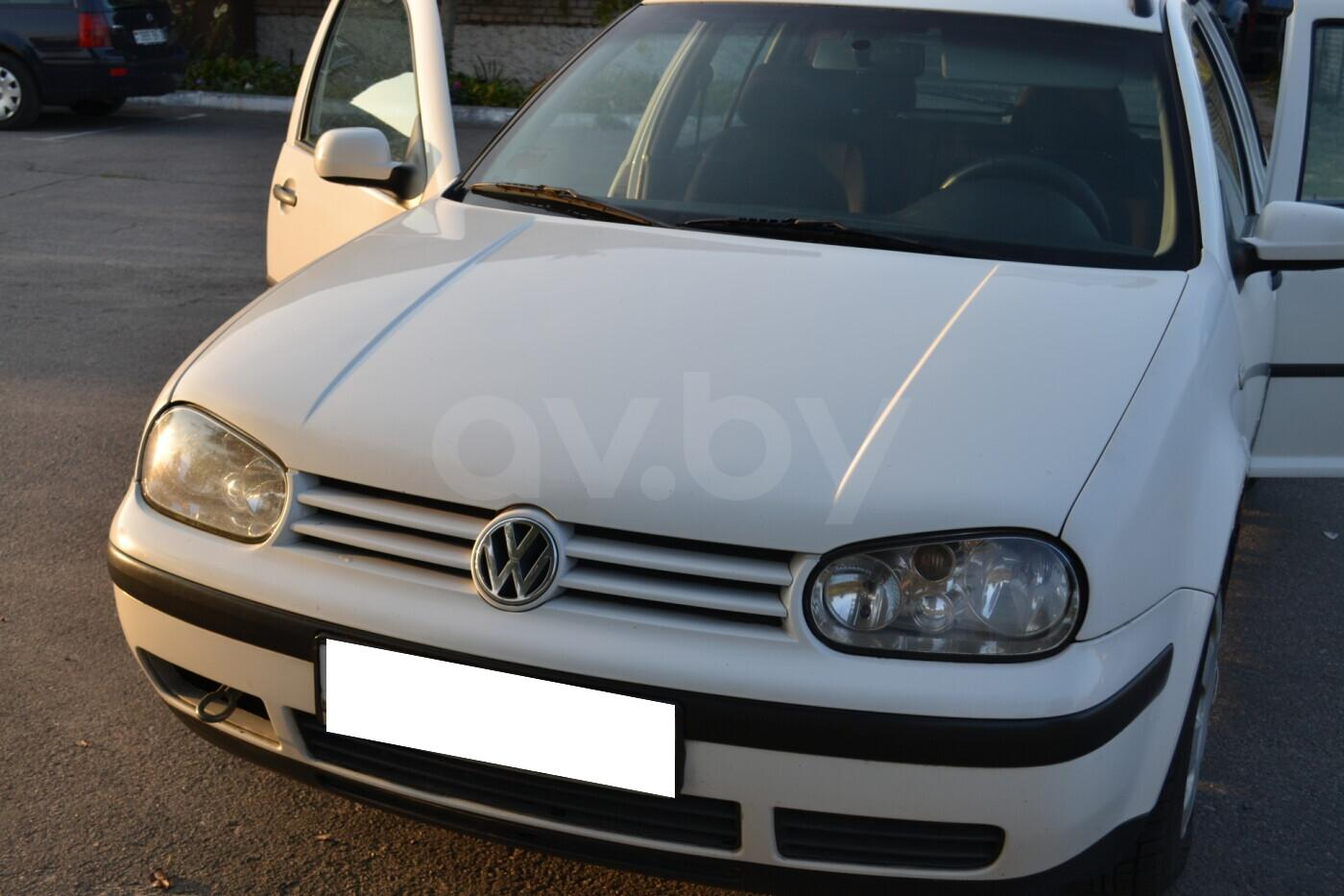Golf_1997-2006: (77, 0, 1344, 892)
